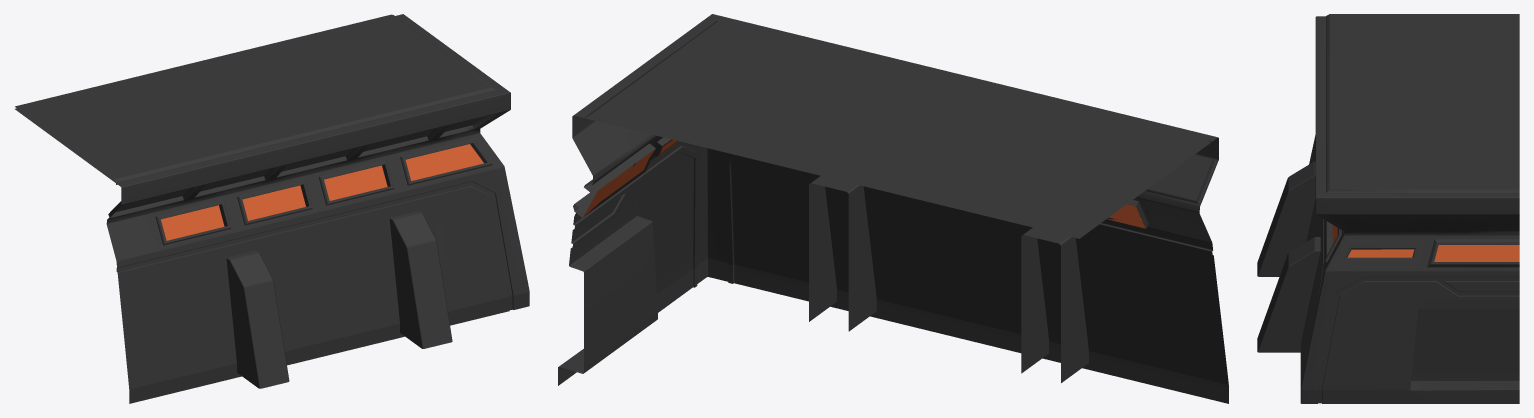
File: SM_Building03_Base_04.fbx
3 renders of one model, left to right at view 1: azimuth 30°, elevation 25°; view 2: azimuth 150°, elevation 25°; view 3: azimuth 270°, elevation 25°, orthographic. The views are drawn at different scales.
Visible parts, largest first — view 1: SM_Building03_Base_04_LOD0; view 2: SM_Building03_Base_04_LOD0; view 3: SM_Building03_Base_04_LOD0.
Boxes of the visible parts, bbox=[...] form: SM_Building03_Base_04_LOD0: bbox=[15, 14, 529, 403]; SM_Building03_Base_04_LOD0: bbox=[558, 14, 1228, 403]; SM_Building03_Base_04_LOD0: bbox=[1257, 14, 1519, 403].
Bounding box in the file's own units: 1634 × 972 × 831.
